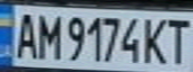1: (84, 12, 106, 62)
4: (121, 13, 142, 64)
7: (100, 14, 121, 63)
9: (63, 12, 84, 62)
A: (9, 9, 39, 60)
K: (139, 14, 172, 65)
M: (33, 9, 60, 60)
T: (163, 15, 193, 65)
